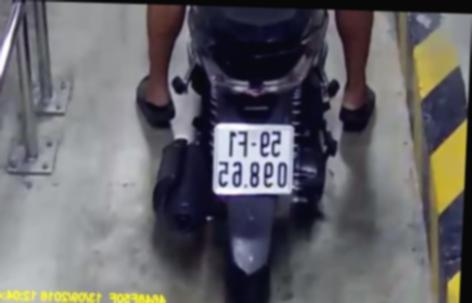License_Plate: (204, 117, 302, 201)
